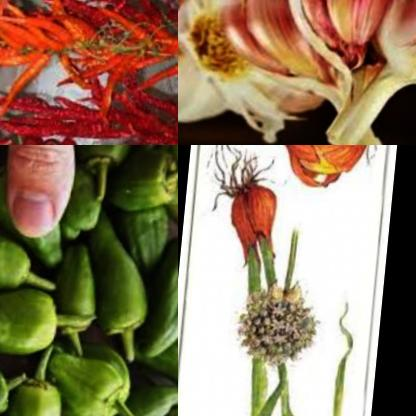garlic: (211, 0, 394, 145), (283, 0, 416, 143), (178, 0, 308, 132), (178, 0, 242, 133)
hot pepper: (0, 0, 178, 123), (0, 68, 178, 145), (89, 213, 164, 359), (0, 265, 106, 361), (41, 331, 156, 416), (0, 145, 72, 258), (2, 337, 86, 416), (0, 224, 74, 298), (61, 154, 119, 240), (147, 209, 178, 364), (112, 145, 178, 215), (124, 188, 178, 267), (114, 369, 178, 416), (74, 145, 142, 184)
onion: (261, 145, 394, 202)
